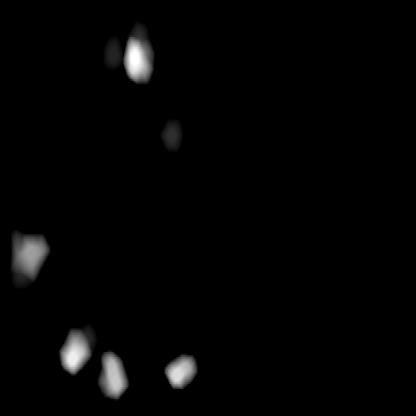fingers: (123, 34, 153, 82)
palm: (11, 228, 196, 398)
